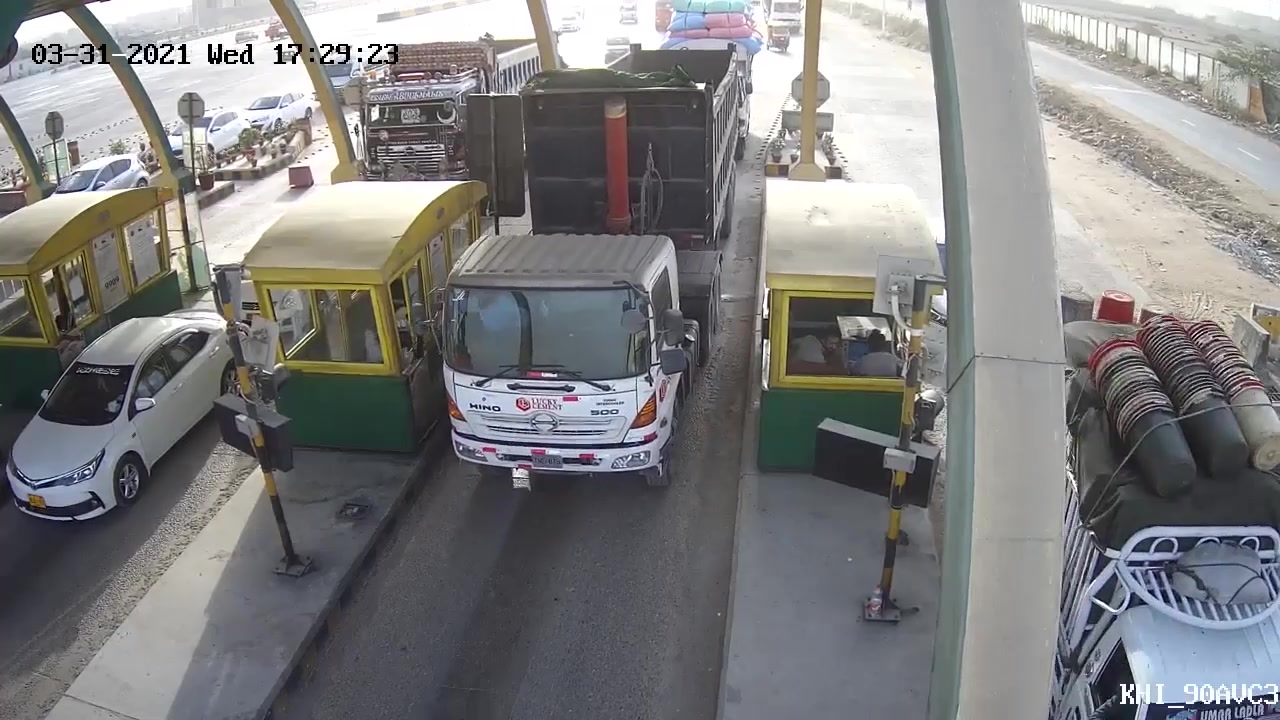F6: (430, 33, 755, 502)
